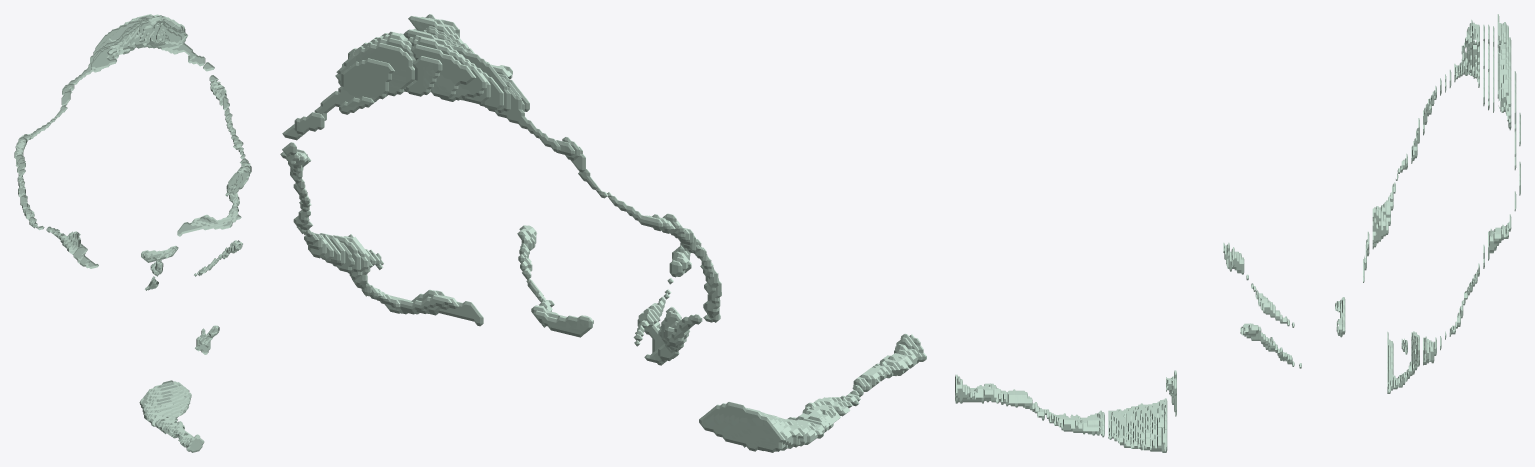
Rendered from SVV_RMEV.gltf.
3 renders of one model, left to right at view 1: azimuth 30°, elevation 25°; view 2: azimuth 150°, elevation 25°; view 3: azimuth 270°, elevation 25°, orthographic. The views are drawn at different scales.
Visible parts, largest first — view 1: RMEV; view 2: RMEV; view 3: RMEV.
Boxes of the visible parts, bbox=[...] form: RMEV: bbox=[14, 14, 251, 452]; RMEV: bbox=[280, 14, 926, 452]; RMEV: bbox=[955, 14, 1520, 452].
Size of the model in its own units: 70188 by 85560 by 90419.
